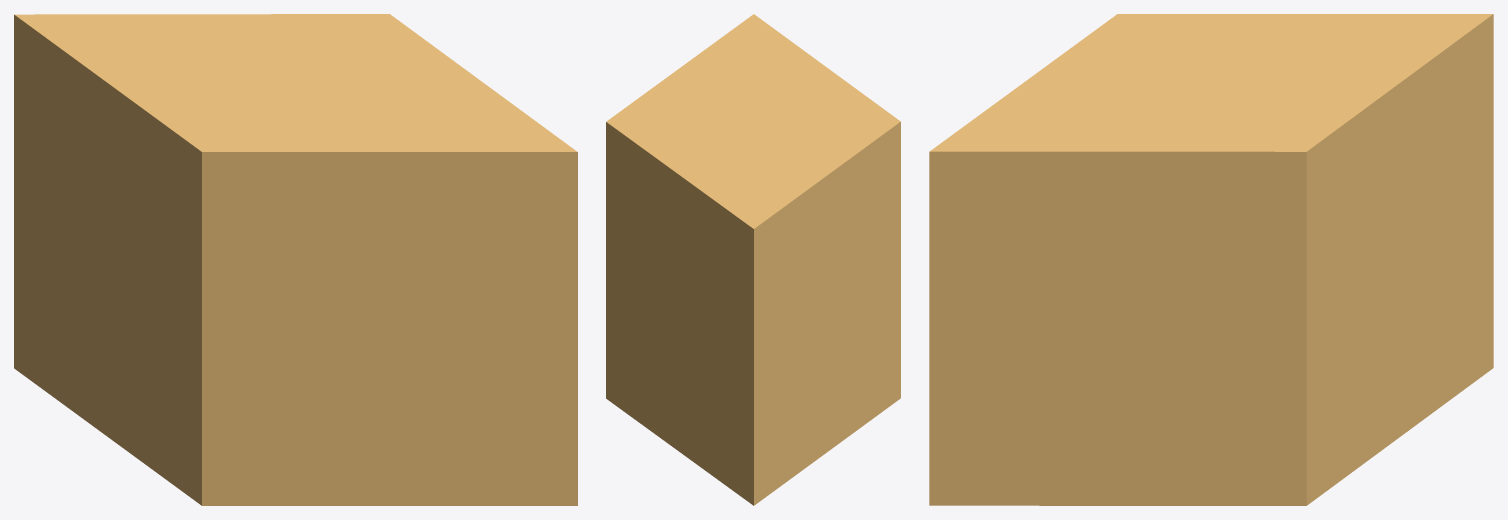
File: 1wall7.glb
The picture shows the model from 3 angles, left to right: view 1: azimuth 30°, elevation 25°; view 2: azimuth 150°, elevation 25°; view 3: azimuth 270°, elevation 25°; orthographic projection. The views are drawn at different scales.
Visible parts, largest first — view 1: VaromaCliff7; view 2: VaromaCliff7; view 3: VaromaCliff7.
Part boxes in pixels (bbox=[...]): VaromaCliff7: bbox=[14, 14, 577, 505]; VaromaCliff7: bbox=[606, 14, 900, 505]; VaromaCliff7: bbox=[929, 14, 1493, 505].
Bounding box in the file's own units: 0.2504 × 0.3 × 0.433.
Materials: 1 (1 with a texture image).
